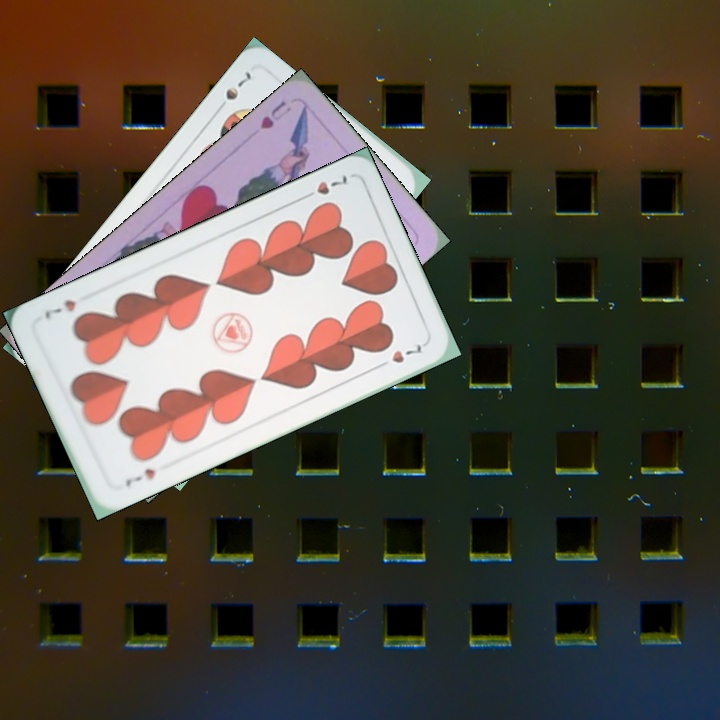H7: (296, 171, 350, 203), (121, 464, 158, 489)
HU: (255, 96, 294, 132)
S7: (212, 67, 254, 115)
